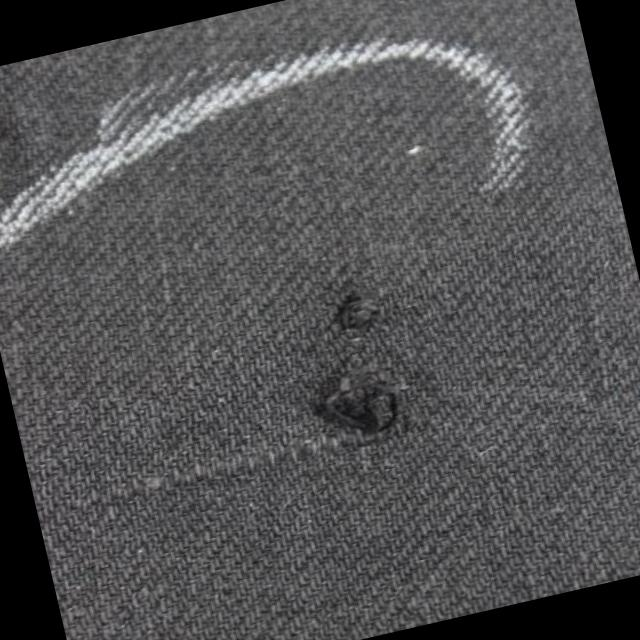Stain: (0, 2, 551, 312)
Thread: (296, 348, 415, 457), (322, 280, 393, 348)
